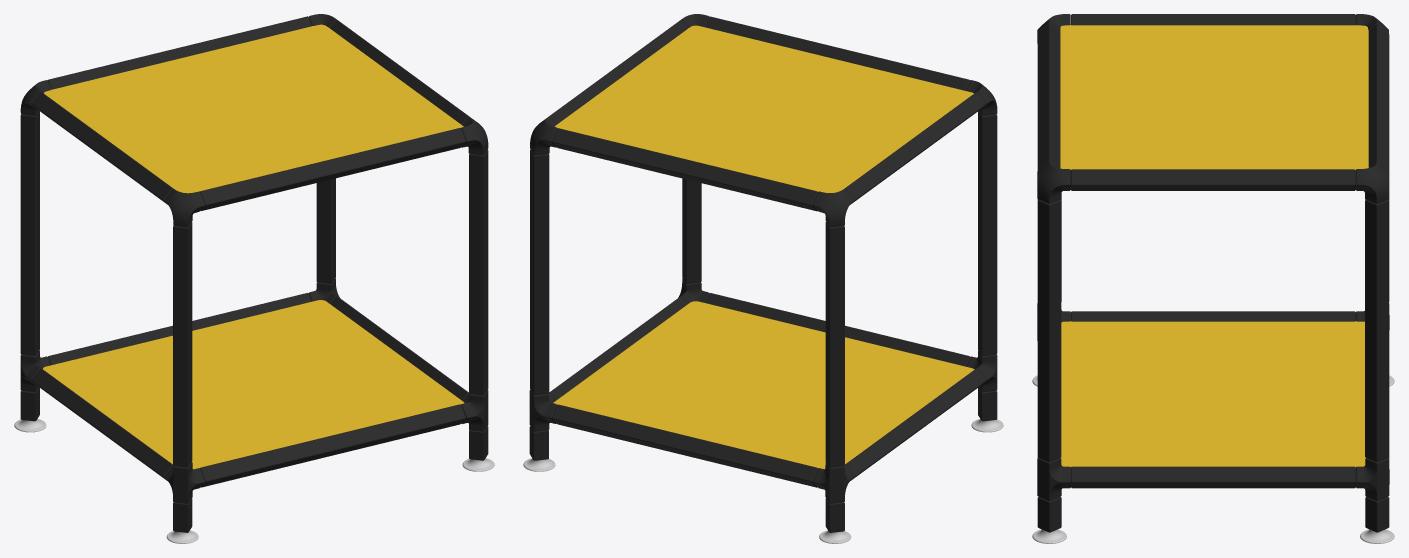
3 views of the same model, side by side, from view 1: azimuth 30°, elevation 25°; view 2: azimuth 150°, elevation 25°; view 3: azimuth 270°, elevation 25° (orthographic). The views are drawn at different scales.
Visible parts, largest first — view 1: 374x329x329; view 2: 374x329x329; view 3: 374x329x329.
Boxes of the visible parts, x1,y1,x2,y2 form: 374x329x329: (14, 14, 494, 543); 374x329x329: (523, 14, 1003, 543); 374x329x329: (1032, 14, 1394, 543).
Bounding box in the file's own units: 0.4639 × 0.4683 × 0.4182.
